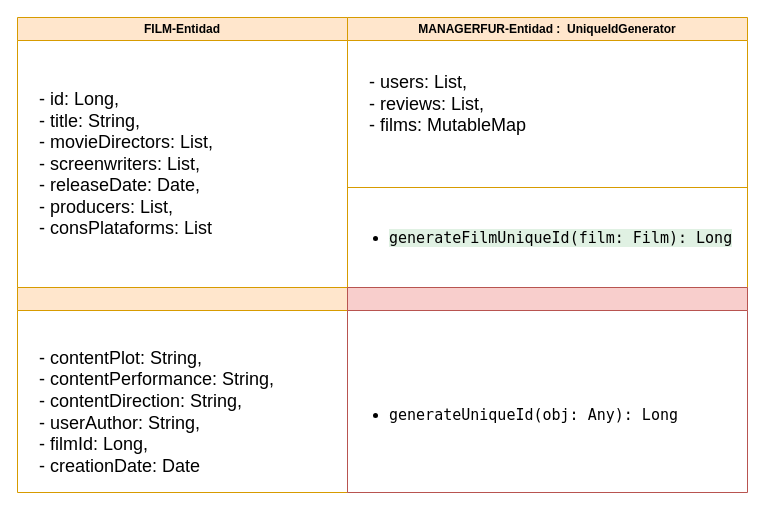
The diagram is 766 pixels wide and 510 high, and some of its shapes have lost their labels. Each missing label, with the box of its shape:
REVIEW-Entidad: (16, 286, 348, 492)
UniqueIdGenerator-Interface: (346, 286, 748, 492)
